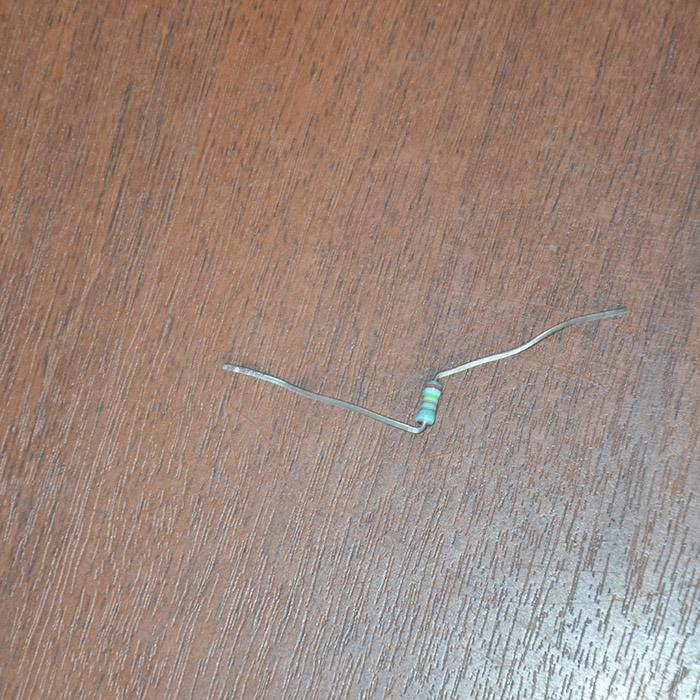resistor: (415, 379, 444, 426)
